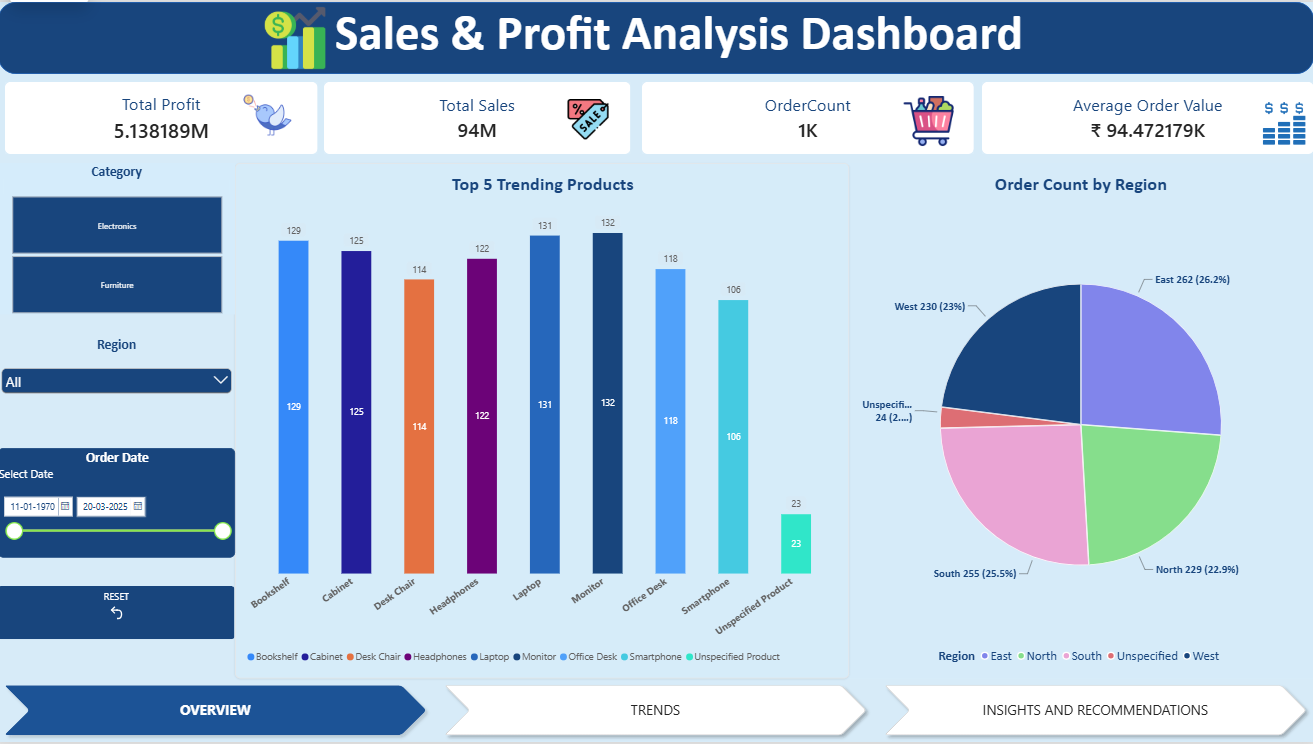

This screenshot's page, from the dashboard's own definition file:
{"tool":"powerbi","page":{"name":"OVERVIEW","canvas":[1920,1080],"ordinal":0},"visuals":[{"type":"shape","box":[0,0,1920,105],"z":0},{"type":"textbox","box":[363.3,0,1260.5,128.4],"z":1000},{"type":"image","box":[288.9,0,288.9,105],"z":2000},{"type":"pageNavigator","box":[0,988.4,1918.2,91.5],"z":3000},{"type":"cardVisual","fields":{"Data":["Sum(SalesData_1000Rows_WithIssues_copy.Profit_Fixed)"]},"box":[10.6,116.3,456.2,105.7],"z":4000},{"type":"cardVisual","fields":{"Data":["Sum(SalesData_1000Rows_WithIssues_copy.Sales_Fixed)"]},"box":[475.6,116.3,447.4,105.7],"z":5000},{"type":"cardVisual","fields":{"Data":["SalesData_1000Rows_WithIssues_copy.OrderCount"]},"box":[938.9,116.3,484.4,105.7],"z":6000},{"type":"cardVisual","fields":{"Data":["SalesData_1000Rows_WithIssues_copy.AverageOrderValue"]},"box":[1435.6,116.3,484.4,105.7],"z":7000},{"type":"pieChart","title":"Order Count by Region","fields":{"Category":["SalesData_1000Rows_WithIssues_copy.Region"],"Y":["SalesData_1000Rows_WithIssues_copy.OrderCount"]},"box":[1241.8,235.5,676.6,752],"z":8000},{"type":"columnChart","title":"Top 5 Trending Products","fields":{"Category":["SalesData_1000Rows_WithIssues_copy.Product"],"Series":["grouped by oder id and product.Product"],"Y":["CountNonNull(SalesData_1000Rows_WithIssues_copy.OrderID)"]},"box":[345.4,235.5,896.4,752],"z":9000},{"type":"slicer","title":"Region","fields":{"Values":["SalesData_1000Rows_WithIssues_copy.Region"]},"box":[0,487.2,345.8,145],"z":10000},{"type":"slicer","title":"Category","fields":{"Values":["SalesData_1000Rows_WithIssues_copy.Category"]},"box":[0,235.1,345.8,220.8],"z":11000},{"type":"slicer","title":"Order Date","fields":{"Values":["SalesData_1000Rows_WithIssues_copy.OrderDate"]},"box":[0,650.4,345.8,159.6],"z":12000},{"type":"actionButton","box":[0,852.6,345.1,77.8],"z":13000},{"type":"image","box":[319.7,128.6,147.2,72.7],"z":14000},{"type":"image","box":[822.1,142.1,76.1,59.2],"z":15000},{"type":"image","box":[1304.2,137,106.6,72.7],"z":16000},{"type":"image","box":[1833.7,142.1,84.6,71],"z":17000}]}

Visuals, with their boxes in screenshot pixels (x1, y1, x2, y2), scaled from the page's 1920x1080 canvas onto the 1313x744 screenshot:
shape: 0,0,1312,72
textbox: 248,0,1110,88
image: 198,0,395,72
pageNavigator: 0,681,1312,743
cardVisual - Sum(SalesData_1000Rows_WithIssues_copy.Profit_Fixed): 7,80,319,153
cardVisual - Sum(SalesData_1000Rows_WithIssues_copy.Sales_Fixed): 325,80,631,153
cardVisual - SalesData_1000Rows_WithIssues_copy.OrderCount: 642,80,973,153
cardVisual - SalesData_1000Rows_WithIssues_copy.AverageOrderValue: 982,80,1312,153
"Order Count by Region" pieChart: 849,162,1312,680
"Top 5 Trending Products" columnChart: 236,162,849,680
"Region" slicer: 0,336,236,436
"Category" slicer: 0,162,236,314
"Order Date" slicer: 0,448,236,558
actionButton: 0,587,236,641
image: 219,89,319,139
image: 562,98,614,139
image: 892,94,965,144
image: 1254,98,1312,147
